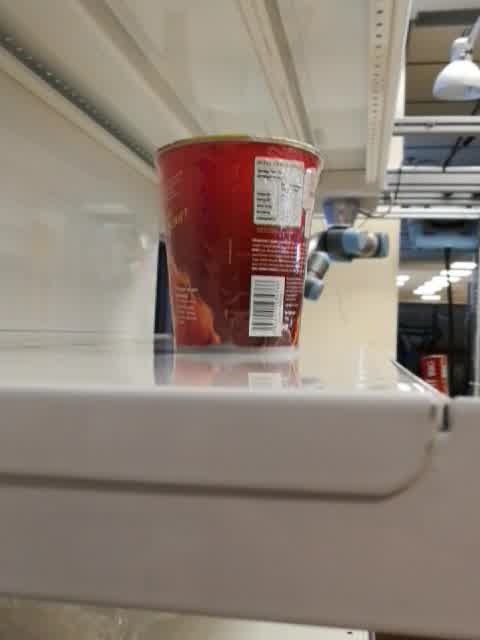maggi: (151, 132, 325, 354)
